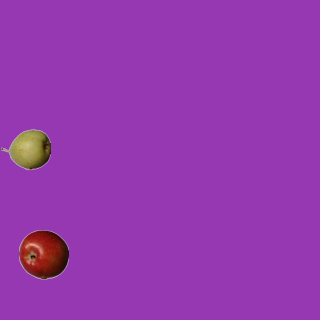Apple Braeburn: (18, 229, 68, 279)
Pear: (0, 124, 50, 174)
